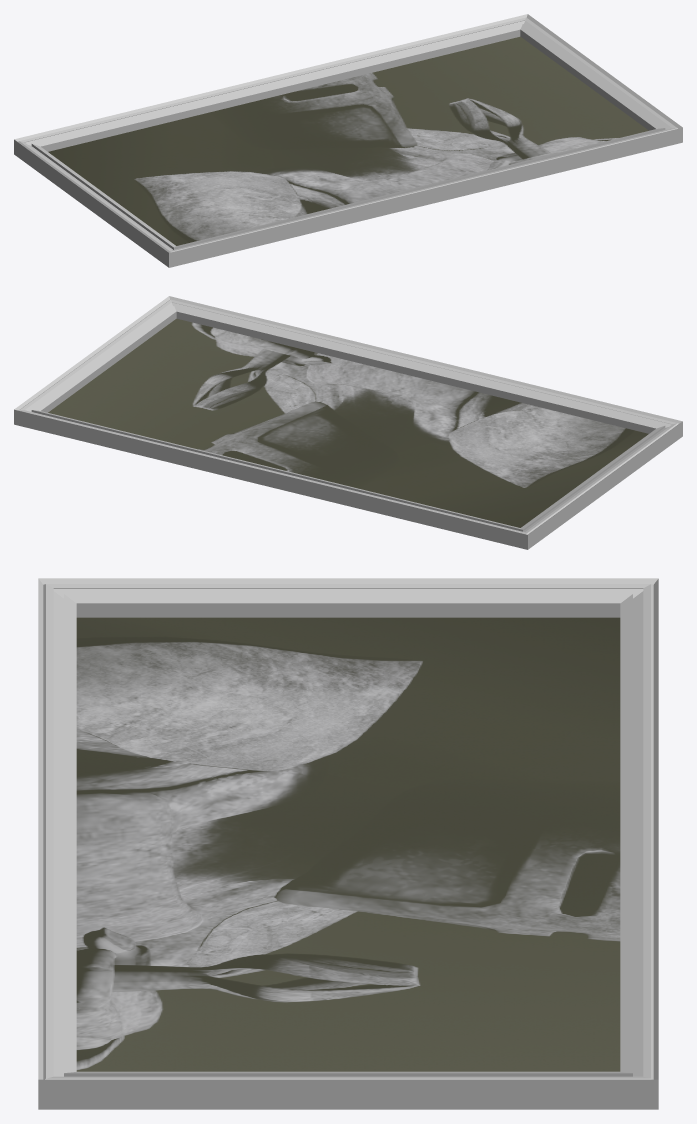
Rendered from painting1.fbx.
3 views of the same model, one above another, from view 1: azimuth 30°, elevation 25°; view 2: azimuth 150°, elevation 25°; view 3: azimuth 270°, elevation 25° (orthographic). The views are drawn at different scales.
Visible parts, largest first — view 1: Plane; view 2: Plane; view 3: Plane.
Part boxes in pixels (x1,y1,x2,y2): Plane: [14, 14, 682, 267]; Plane: [14, 296, 682, 549]; Plane: [38, 578, 658, 1109].
Size of the model in its own units: 1.13 by 0.0315 by 0.5893.
